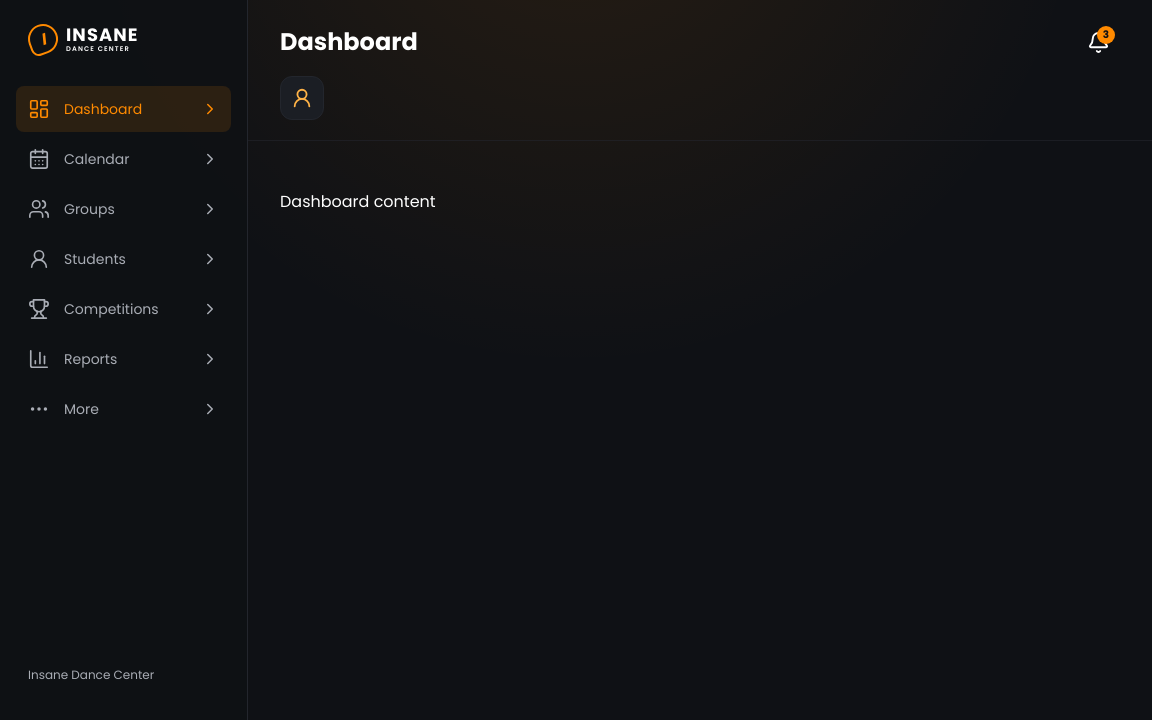
it: AppShell user menu › displays the trainer role and closes on Escape or an outside click
The image size is (1152, 720).
Click the button named "Open user menu" at (302, 98), box top-left (280, 76), bottom-right (324, 120)
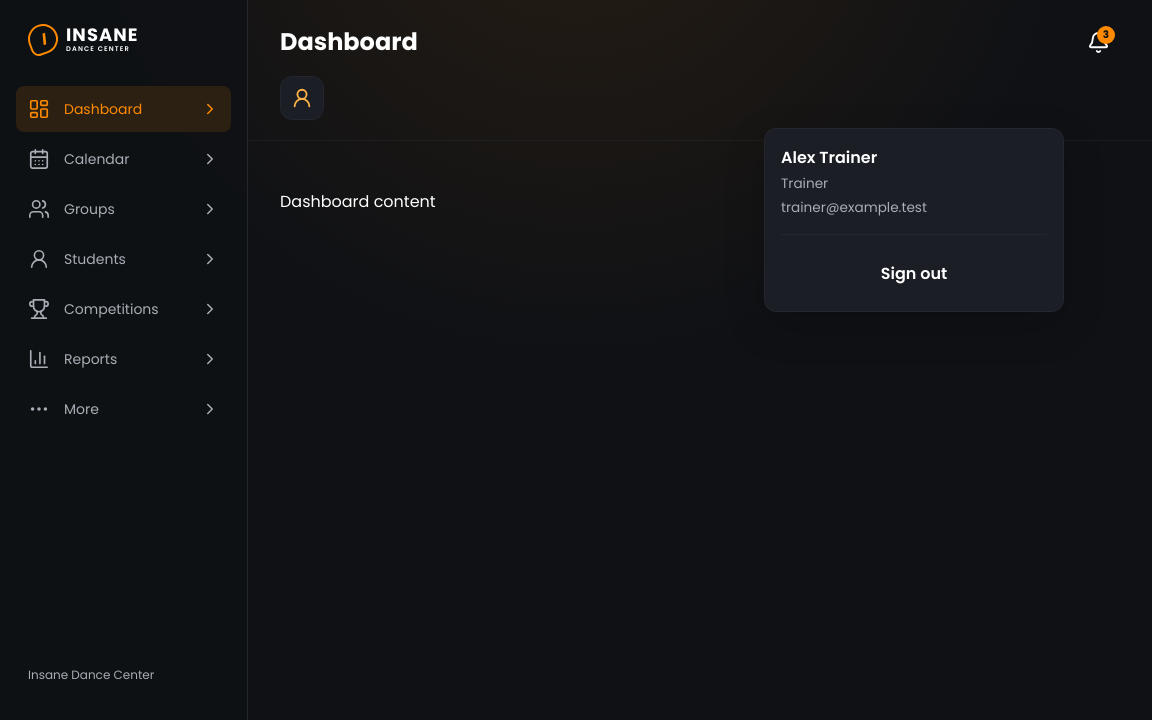
Check: the text "Trainer" is shown, box top-left (781, 174), bottom-right (828, 193)
Press Escape
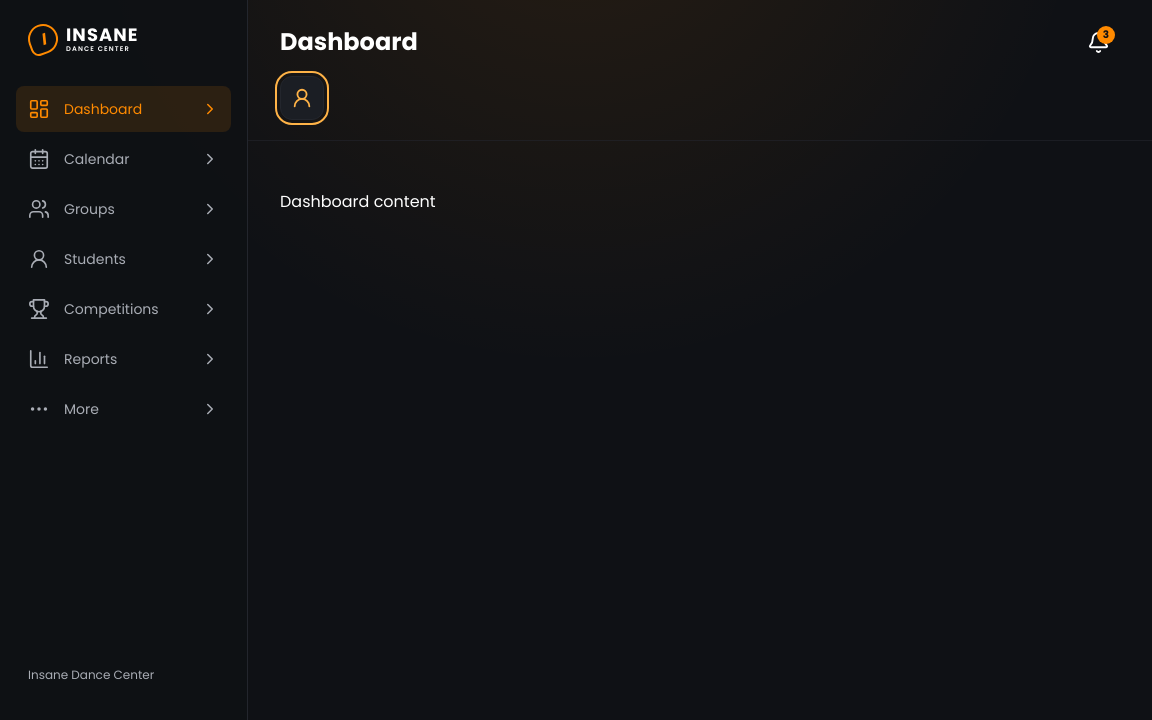
Check: the text "trainer@example.test" is gone
Click the button named "Open user menu" at (302, 98), box top-left (280, 76), bottom-right (324, 120)
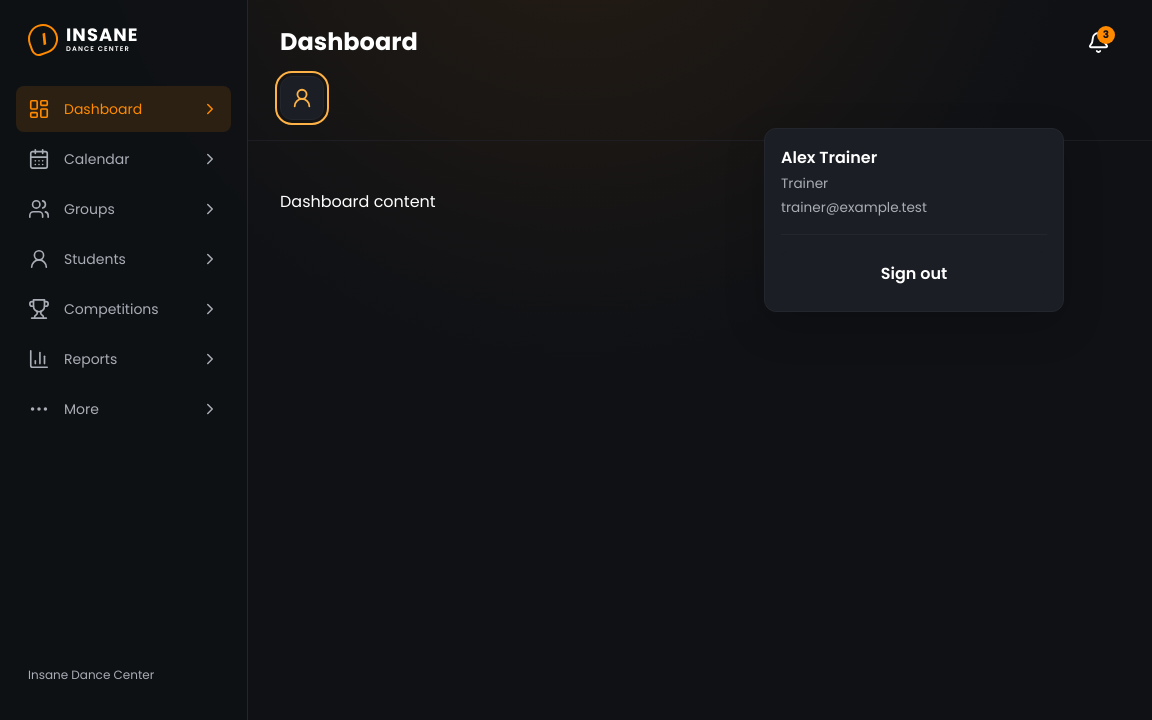
Press the mouse on the element that starts with "INSANE" at (576, 360), box top-left (0, 0), bottom-right (1151, 719)
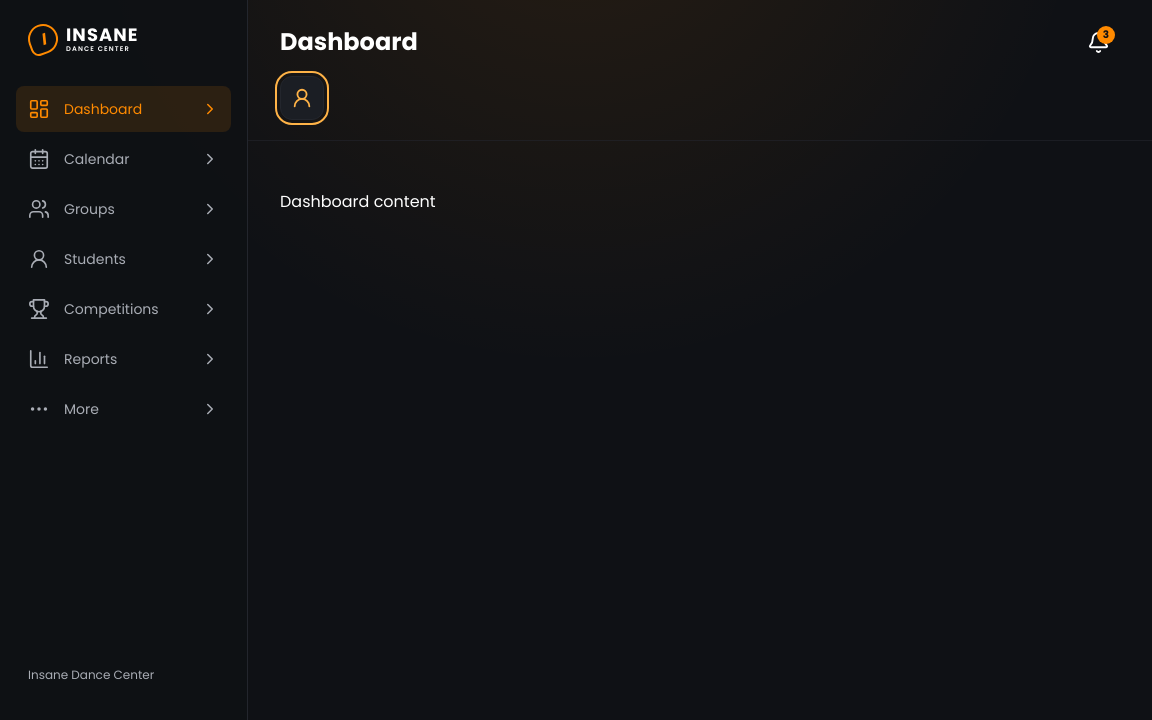
Check: the text "trainer@example.test" is gone
